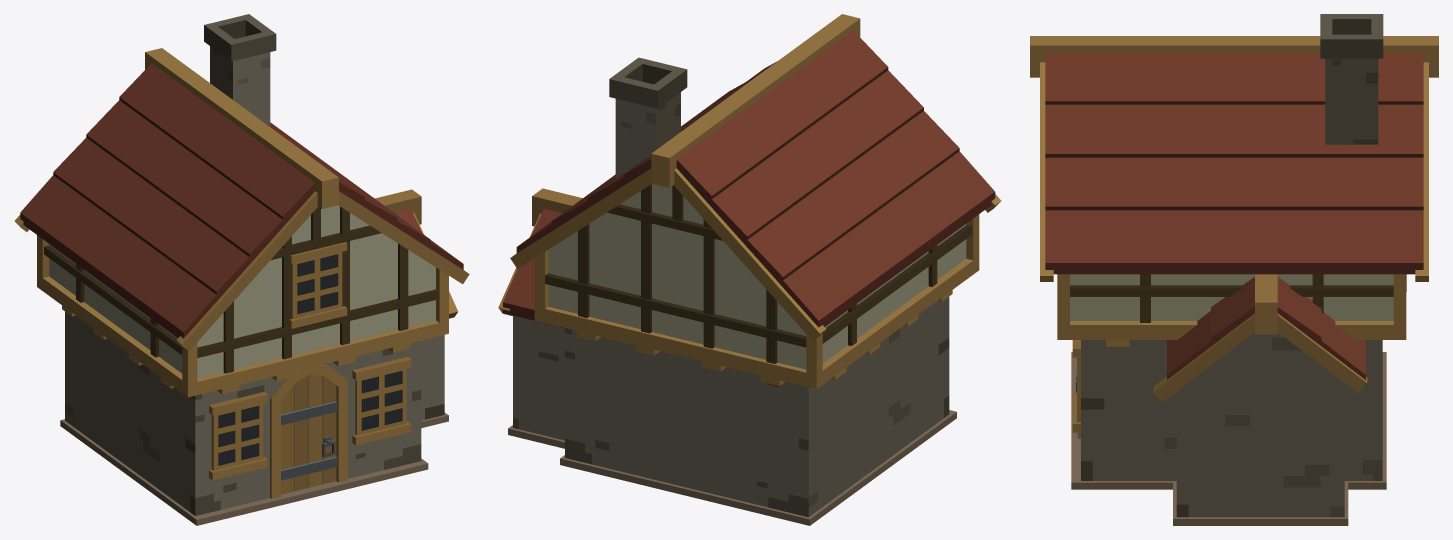
The model's file is SF_Bld_House_Red_01.fbx.
3 renders of one model, left to right at view 1: azimuth 30°, elevation 25°; view 2: azimuth 150°, elevation 25°; view 3: azimuth 270°, elevation 25°, orthographic. The views are drawn at different scales.
Visible parts, largest first — view 1: SF_Bld_House_Red_01; view 2: SF_Bld_House_Red_01; view 3: SF_Bld_House_Red_01.
Boxes of the visible parts, x1=… form: SF_Bld_House_Red_01: x1=14, y1=14, x2=469, y2=525; SF_Bld_House_Red_01: x1=498, y1=14, x2=1001, y2=525; SF_Bld_House_Red_01: x1=1030, y1=14, x2=1438, y2=525.
Bounding box in the file's own units: 11.51 × 12.17 × 10.61.
